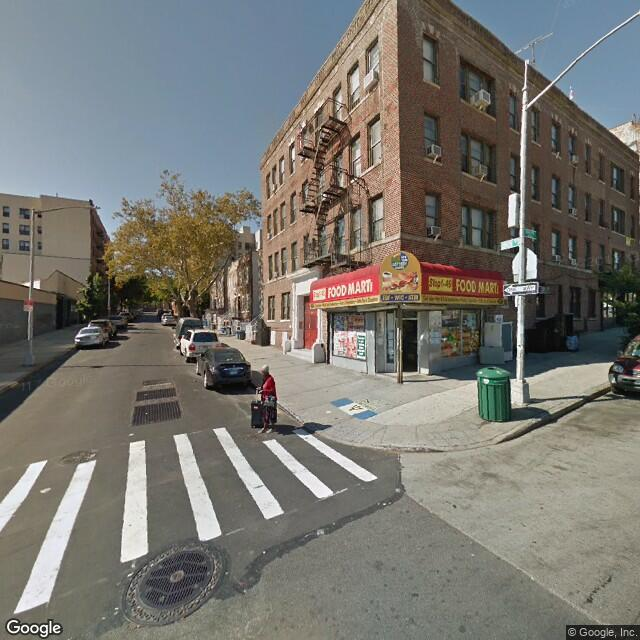litter: (40, 487, 53, 492), (129, 432, 136, 434)
